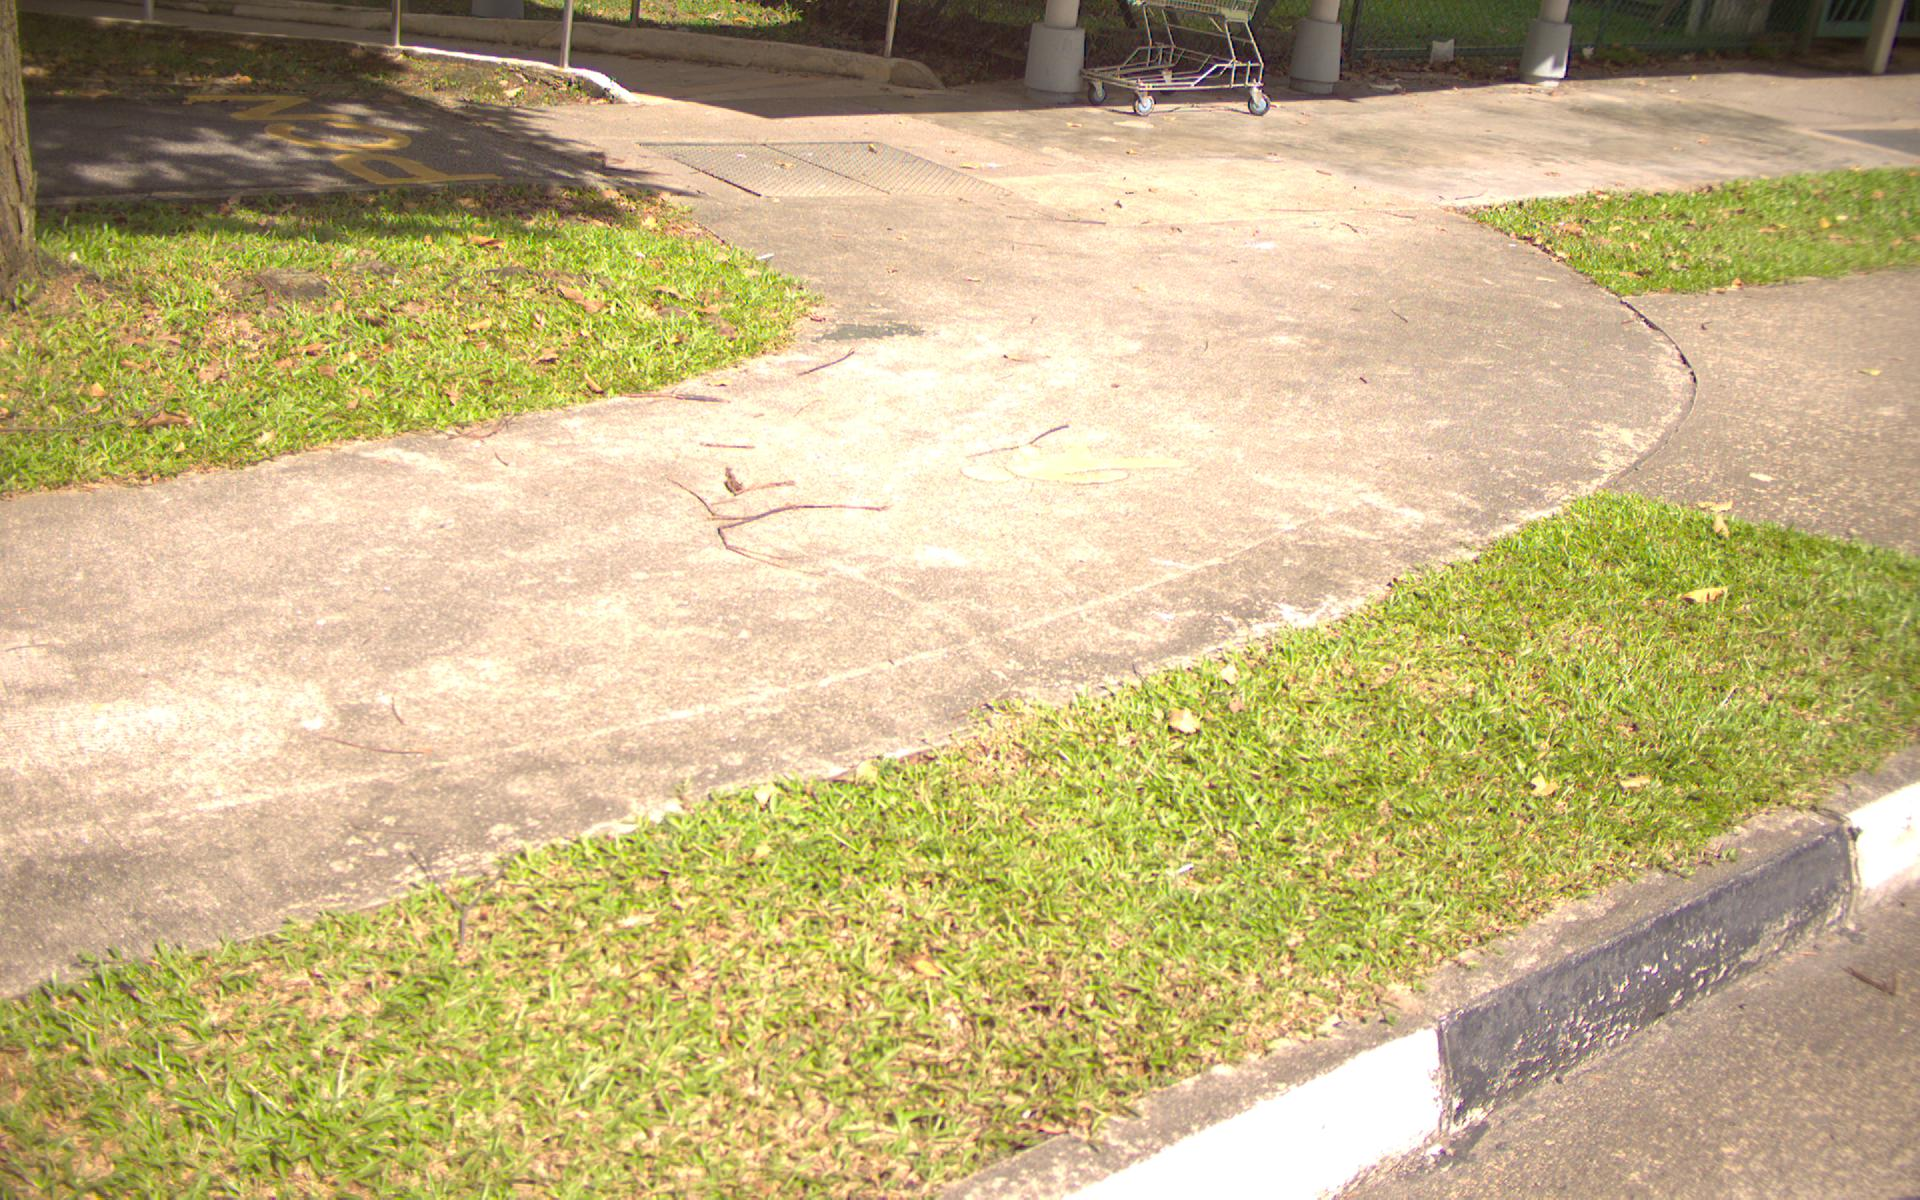pathway_low: (809, 112, 1450, 538), (6, 505, 834, 758)
road_turf_low: (70, 205, 650, 382), (1508, 536, 1867, 762), (1580, 192, 1920, 268)
